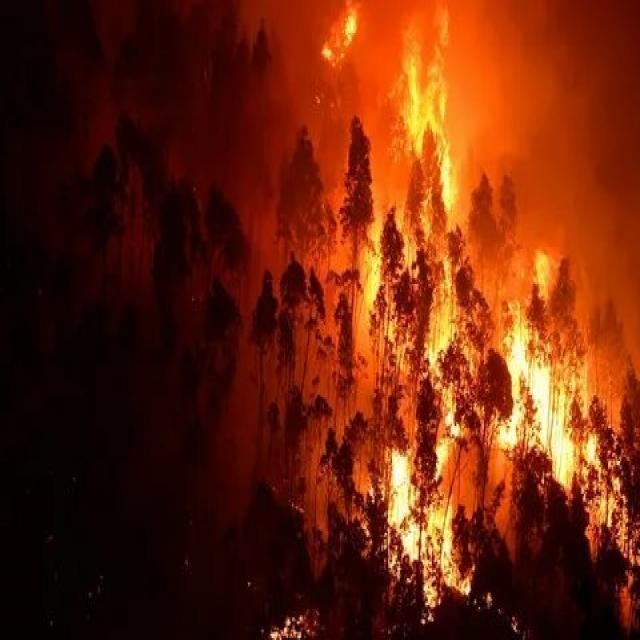Fire: (463, 283, 640, 569), (356, 0, 482, 366), (354, 428, 484, 638)
